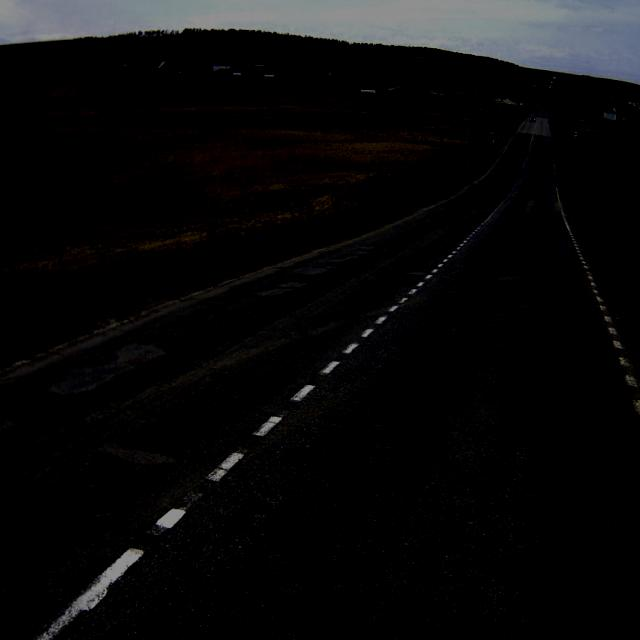road: (0, 97, 640, 639)
